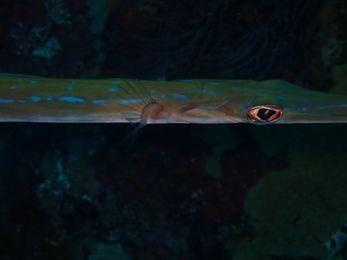Fistularia commersonii: (0, 55, 347, 155)
